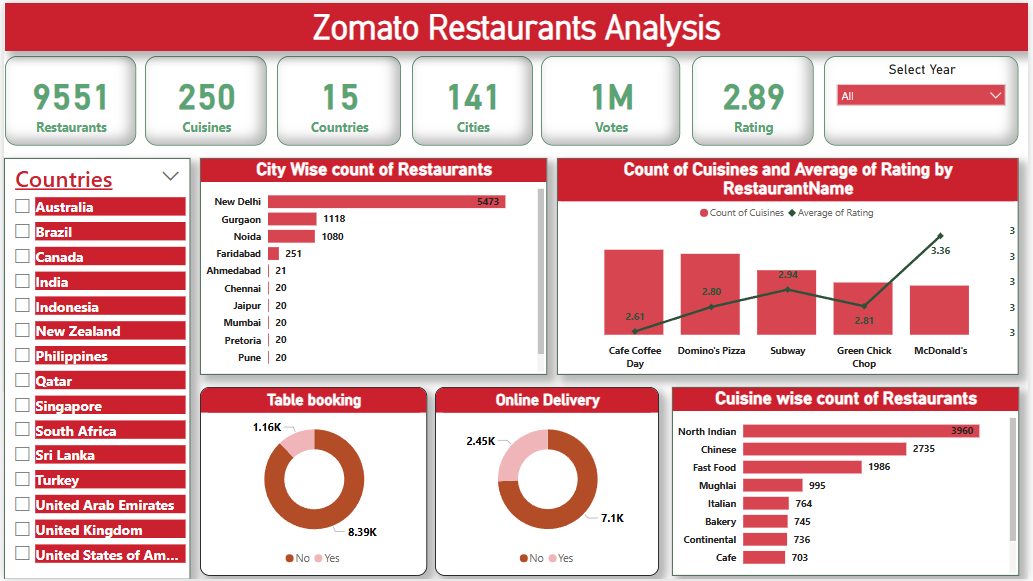

Layout of this report page (visuals, bound fields, positions):
{"tool":"powerbi","page":{"name":"Dashboard","canvas":[1280,720],"ordinal":0},"visuals":[{"type":"slicer","fields":{"Values":["Sheet2.country name"]},"box":[0,194.2,232.6,526.7],"z":0},{"type":"card","fields":{"Values":["CountNonNull(Sheet2.countryID)"]},"box":[340.7,66.3,154.7,111.6],"z":2000},{"type":"card","fields":{"Values":["Min(Sheet1.Cuisines)"]},"box":[176.7,66.3,152.3,111.6],"z":3000},{"type":"card","fields":{"Values":["CountNonNull(Sheet1.RestaurantID)"]},"box":[1.2,66.3,164,111.6],"z":4000},{"type":"card","fields":{"Values":["Min(Sheet1.City)"]},"box":[510.5,66.3,151.2,111.6],"z":5000},{"type":"textbox","box":[1.5,0,1279.2,60.3],"z":6000},{"type":"donutChart","title":"Table booking ","fields":{"Category":["cuisines copy.Has_Table_booking"],"Y":["CountNonNull(cuisines copy.Has_Table_booking)"]},"box":[245.3,480.2,283.7,236],"z":7000},{"type":"donutChart","title":"Online Delivery","fields":{"Category":["cuisines copy.Has_Online_delivery"],"Y":["CountNonNull(cuisines copy.Has_Online_delivery)"]},"box":[538.4,480.2,280.2,236],"z":8000},{"type":"clusteredBarChart","title":"Cuisine wise count of Restaurants","fields":{"Category":["Sheet1.Column"],"Y":["CountNonNull(Sheet1.Cuisines)"]},"box":[834.9,480.2,433.7,236],"z":9000},{"type":"clusteredBarChart","title":"City Wise count of Restaurants","fields":{"Category":["cuisines copy.City"],"Y":["CountNonNull(cuisines copy.RestaurantID)"]},"box":[245.3,194.2,433.7,270.9],"z":10000},{"type":"lineStackedColumnComboChart","fields":{"Category":["cuisines copy.RestaurantName"],"Y":["CountNonNull(cuisines copy.Cuisines)"],"Y2":["Sum(cuisines copy.Rating)"]},"box":[691.9,194.2,576.7,270.9],"z":11000},{"type":"slicer","title":"Select Year","fields":{"Values":["cuisines copy.new datekey.Variation.Date Hierarchy.Year","cuisines copy.new datekey.Variation.Date Hierarchy.Quarter","cuisines copy.new datekey.Variation.Date Hierarchy.Month","cuisines copy.new datekey.Variation.Date Hierarchy.Day"]},"box":[1025.6,66.3,243,111.6],"z":13000},{"type":"card","fields":{"Values":["Sum(cuisines copy.Votes)"]},"box":[670.9,66.3,174.4,111.6],"z":14000},{"type":"card","fields":{"Values":["Sum(cuisines copy.Rating)"]},"box":[860.5,66.3,152.3,111.6],"z":15000}]}

Visuals, with their boxes in screenshot pixels (x1, y1, x2, y2), scaled from the page's 1280x720 canvas onto the 1033x581 screenshot:
slicer - Sheet2.country name: rect(0, 157, 188, 580)
card - CountNonNull(Sheet2.countryID): rect(275, 54, 400, 144)
card - Min(Sheet1.Cuisines): rect(143, 54, 266, 144)
card - CountNonNull(Sheet1.RestaurantID): rect(1, 54, 133, 144)
card - Min(Sheet1.City): rect(412, 54, 534, 144)
textbox: rect(1, 0, 1032, 49)
"Table booking " donutChart: rect(198, 387, 427, 578)
"Online Delivery" donutChart: rect(435, 387, 661, 578)
"Cuisine wise count of Restaurants" clusteredBarChart: rect(674, 387, 1024, 578)
"City Wise count of Restaurants" clusteredBarChart: rect(198, 157, 548, 375)
lineStackedColumnComboChart - cuisines copy.RestaurantName x CountNonNull(cuisines copy.Cuisines): rect(558, 157, 1024, 375)
"Select Year" slicer: rect(828, 54, 1024, 144)
card - Sum(cuisines copy.Votes): rect(541, 54, 682, 144)
card - Sum(cuisines copy.Rating): rect(694, 54, 817, 144)
